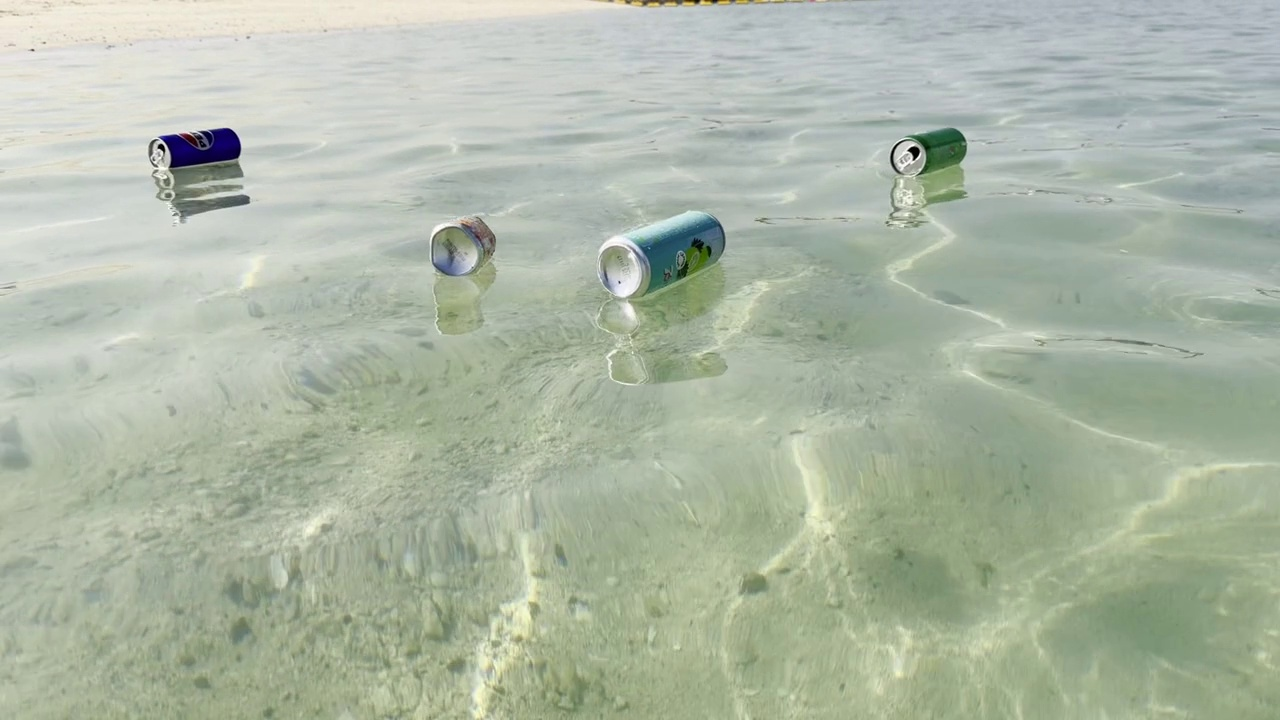debris: (588, 201, 732, 304), (145, 117, 246, 179), (422, 209, 507, 277), (882, 123, 972, 183)
